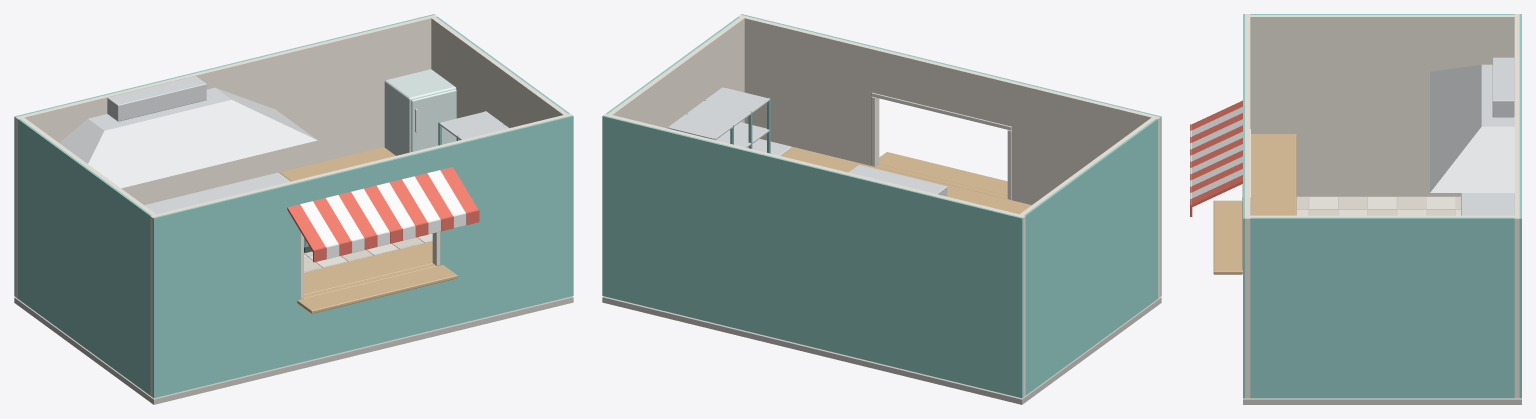
File: foodtruck_basic.glb
3 views of the same model, side by side, from view 1: azimuth 30°, elevation 25°; view 2: azimuth 150°, elevation 25°; view 3: azimuth 270°, elevation 25° (orthographic).
Visible parts, largest first — view 1: Wall_Front, Wall_Left, Wall_Back, Hood, Awning, Wall_Right, Floor, Service_Window, Fridge, Front_Counter, Fridge_Door_Top, Stove_Cabinet (+2 smaller); view 2: Wall_Back, Wall_Front, Wall_Left, Wall_Right, Floor, Service_Window, Shelves, Front_Counter, Hood; view 3: Wall_Right, Wall_Left, Hood, Floor, Awning, Front_Counter, Wall_Back, Wall_Front, Service_Window, Stove_Cabinet.
Boxes of the visible parts, left/top/right/bottom form: Wall_Front: left=150, top=113, right=573, bottom=398; Wall_Left: left=18, top=117, right=155, bottom=395; Wall_Back: left=14, top=14, right=437, bottom=298; Hood: left=59, top=76, right=317, bottom=188; Awning: left=287, top=167, right=479, bottom=262; Wall_Right: left=431, top=16, right=569, bottom=127; Floor: left=14, top=233, right=573, bottom=404; Service_Window: left=297, top=232, right=457, bottom=313; Fridge: left=384, top=69, right=456, bottom=155; Front_Counter: left=304, top=241, right=432, bottom=294; Fridge_Door_Top: left=411, top=89, right=456, bottom=151; Stove_Cabinet: left=144, top=172, right=304, bottom=247; Wall_Back: left=602, top=113, right=1025, bottom=398; Wall_Front: left=738, top=14, right=1161, bottom=298; Wall_Left: left=1020, top=117, right=1157, bottom=395; Wall_Right: left=606, top=16, right=744, bottom=128; Floor: left=602, top=296, right=1161, bottom=404; Service_Window: left=871, top=92, right=1011, bottom=199; Shelves: left=667, top=86, right=770, bottom=153; Front_Counter: left=780, top=147, right=1031, bottom=214; Hood: left=848, top=165, right=947, bottom=196; Wall_Right: left=1250, top=215, right=1514, bottom=398; Wall_Left: left=1250, top=14, right=1514, bottom=196; Hood: left=1430, top=57, right=1514, bottom=192; Floor: left=1243, top=196, right=1521, bottom=404; Awning: left=1190, top=100, right=1242, bottom=216; Front_Counter: left=1251, top=133, right=1296, bottom=215; Wall_Back: left=1514, top=14, right=1521, bottom=398; Wall_Front: left=1243, top=14, right=1250, bottom=398; Service_Window: left=1213, top=129, right=1250, bottom=274; Stove_Cabinet: left=1461, top=193, right=1514, bottom=215.
Bounding box in the file's own units: 6.6 × 2.8 × 4.52.
